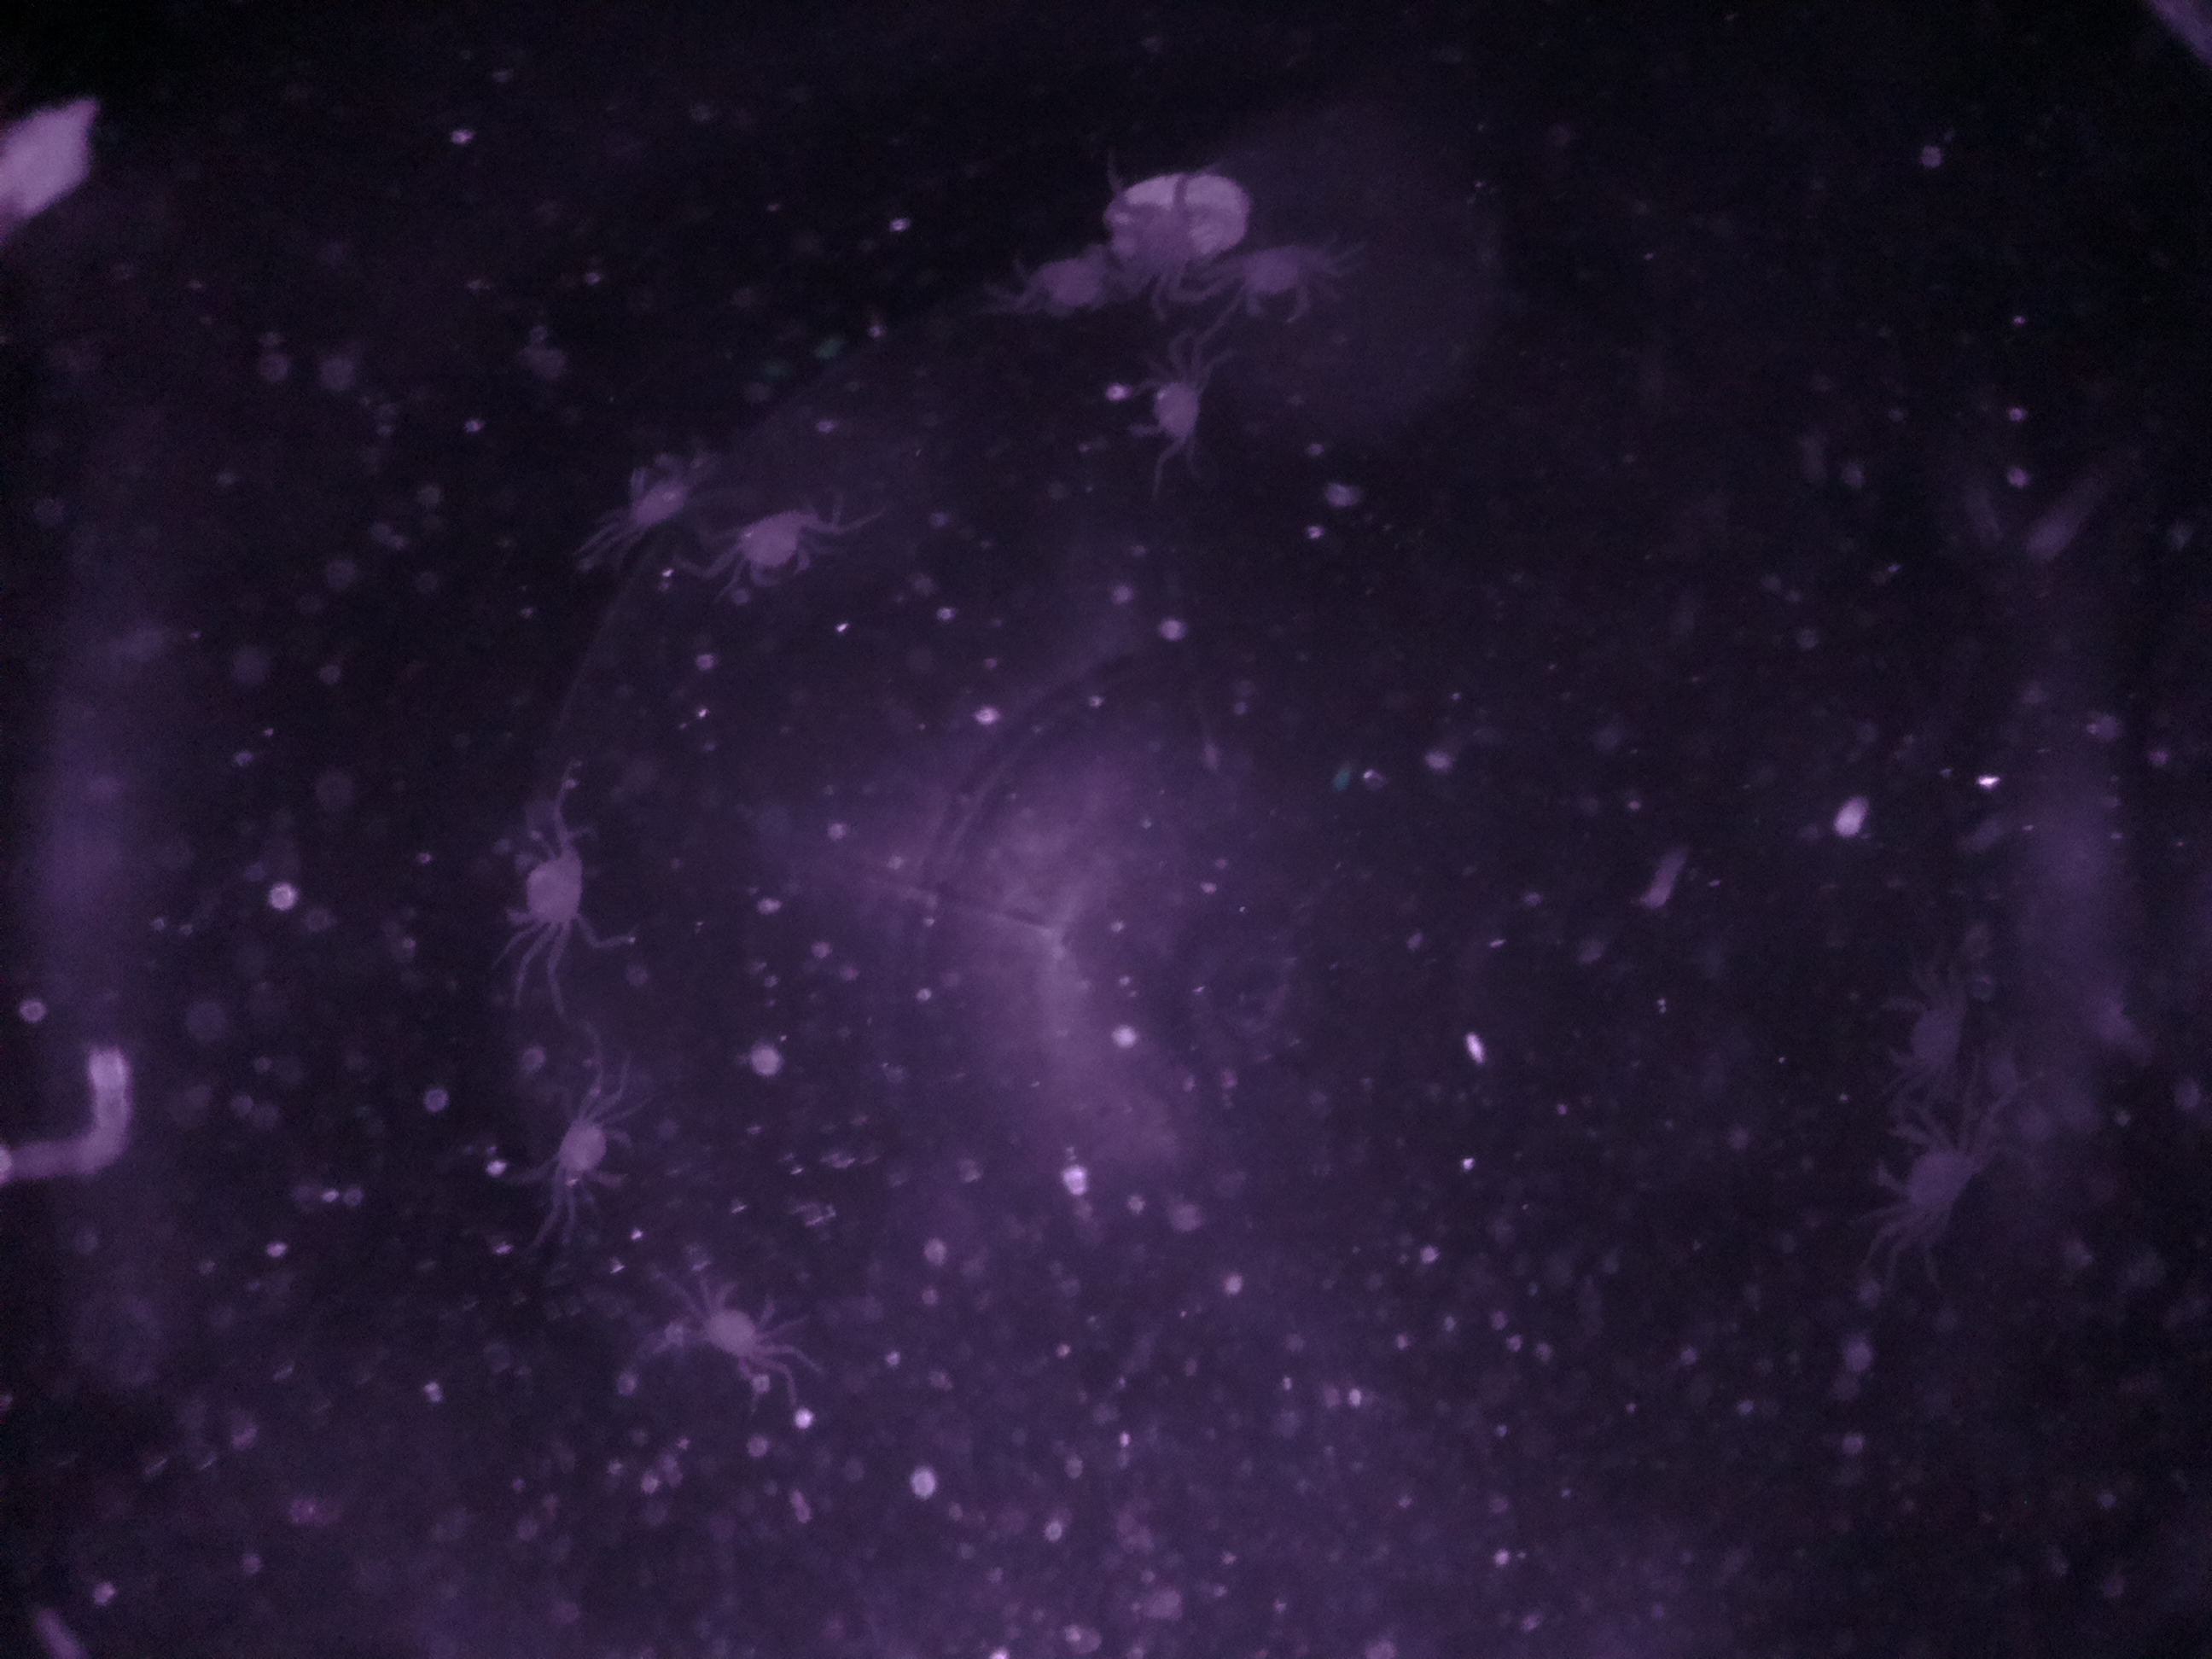Crab: (470, 817, 610, 957), (519, 1084, 660, 1209), (1106, 345, 1230, 471), (683, 1263, 792, 1394), (716, 495, 838, 599), (1214, 223, 1322, 340)
